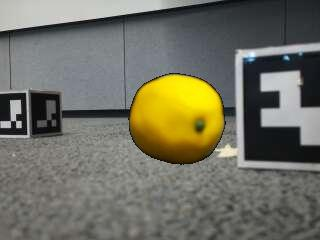lemon: (128, 75, 223, 164)
